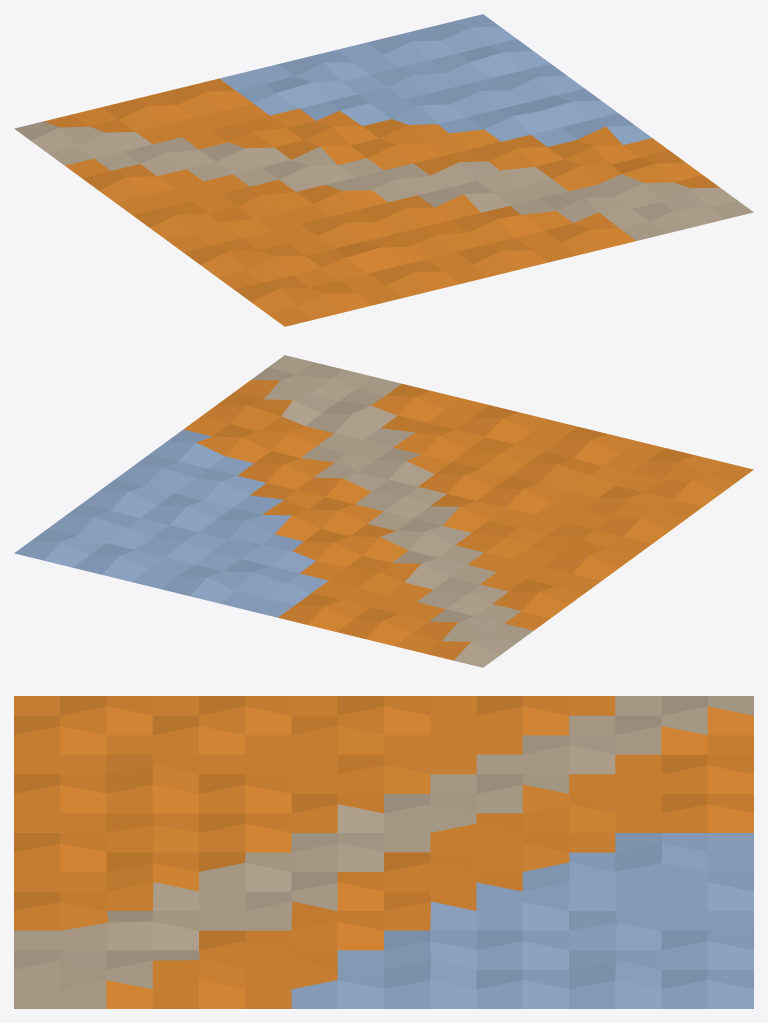
File: Ground01.fbx
3 views of the same model, one above another, from view 1: azimuth 30°, elevation 25°; view 2: azimuth 150°, elevation 25°; view 3: azimuth 270°, elevation 25° (orthographic). The views are drawn at different scales.
Visible parts, largest first — view 1: Plane; view 2: Plane; view 3: Plane.
Boxes of the visible parts, bbox=[...] form: Plane: bbox=[14, 14, 753, 326]; Plane: bbox=[14, 355, 753, 667]; Plane: bbox=[14, 696, 753, 1008].
Size of the model in its own units: 1574 by 21.06 by 1574.
